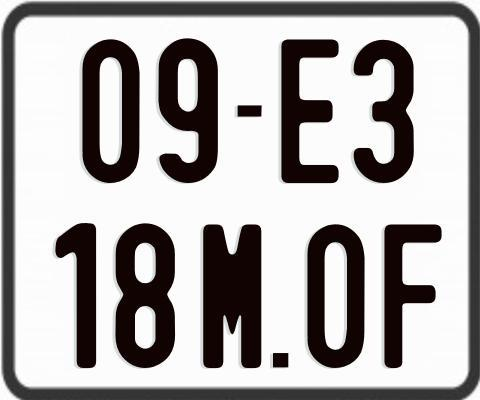0: (307, 224, 368, 371), (79, 39, 139, 187)
1: (55, 223, 101, 372)
3: (354, 40, 417, 185)
8: (115, 223, 176, 371)
9: (158, 35, 224, 180)
E: (281, 39, 345, 188)
F: (383, 223, 442, 370)
M: (203, 224, 266, 370)
